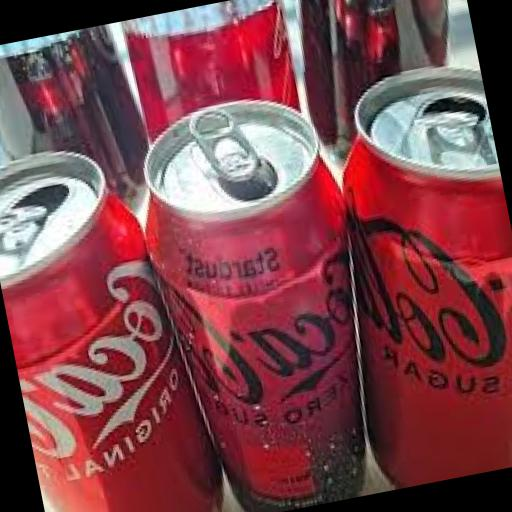Coca: (0, 115, 229, 512)
